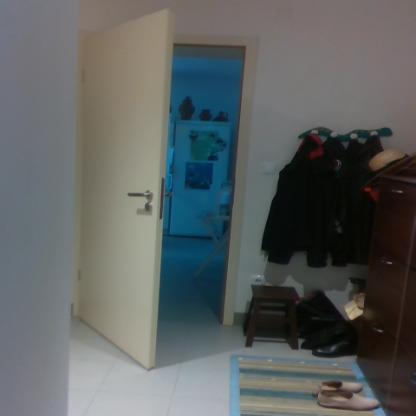semi: (74, 20, 252, 368)
